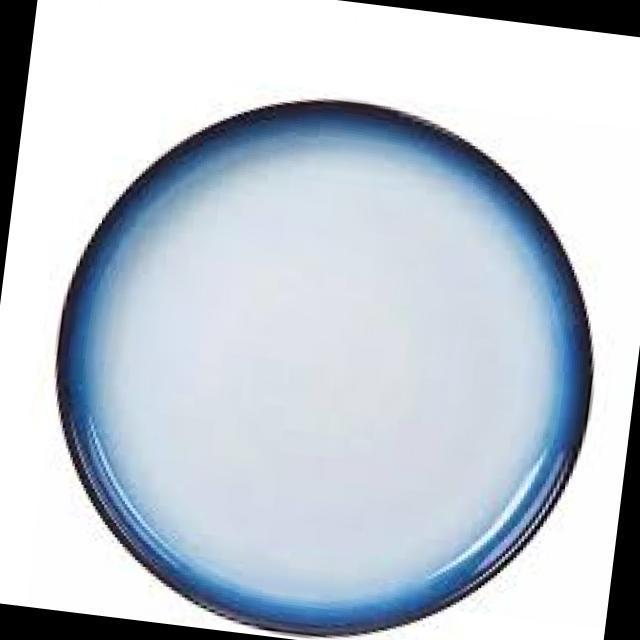plate: (15, 55, 633, 640)
